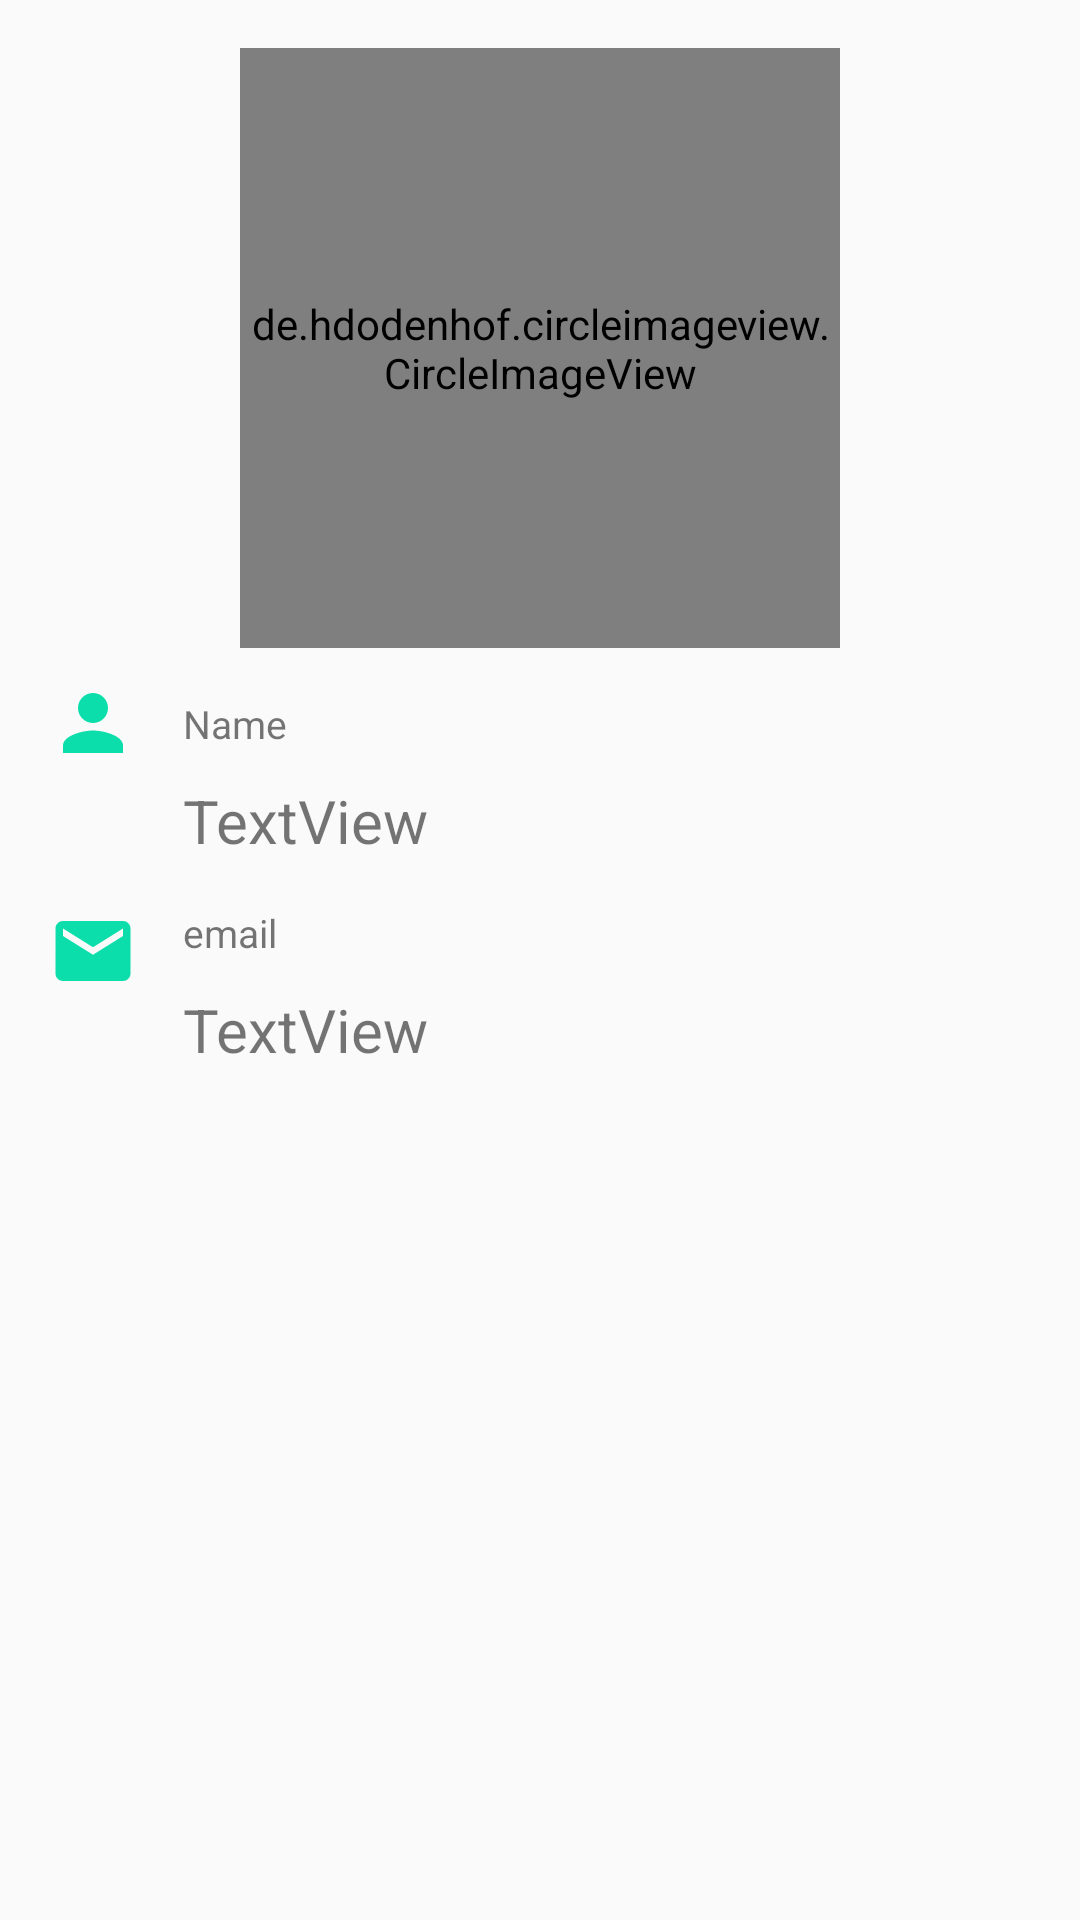

Screen size 1080x1920. Icon name, then its box in pixels as (x1, y1, x2, y2):
person: (63, 693, 123, 753)
